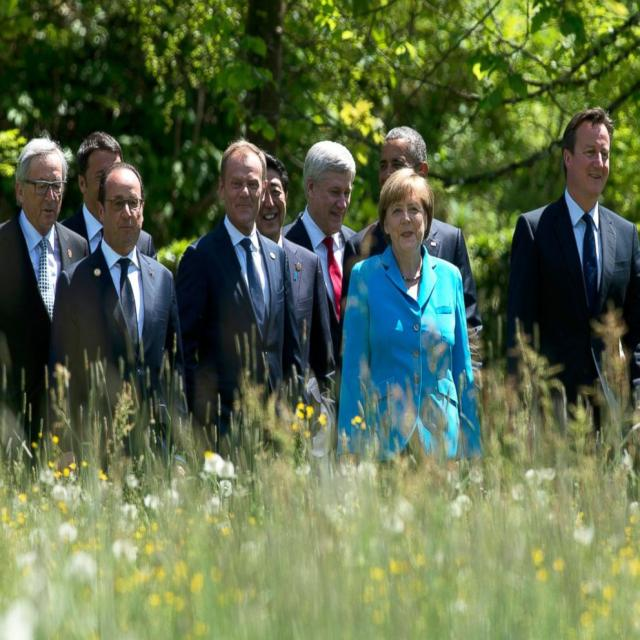body: (502, 103, 639, 440), (47, 161, 188, 483), (336, 126, 486, 424), (173, 135, 310, 457), (338, 166, 482, 464), (0, 135, 92, 506), (253, 148, 338, 464), (280, 138, 360, 357), (58, 129, 159, 263)
